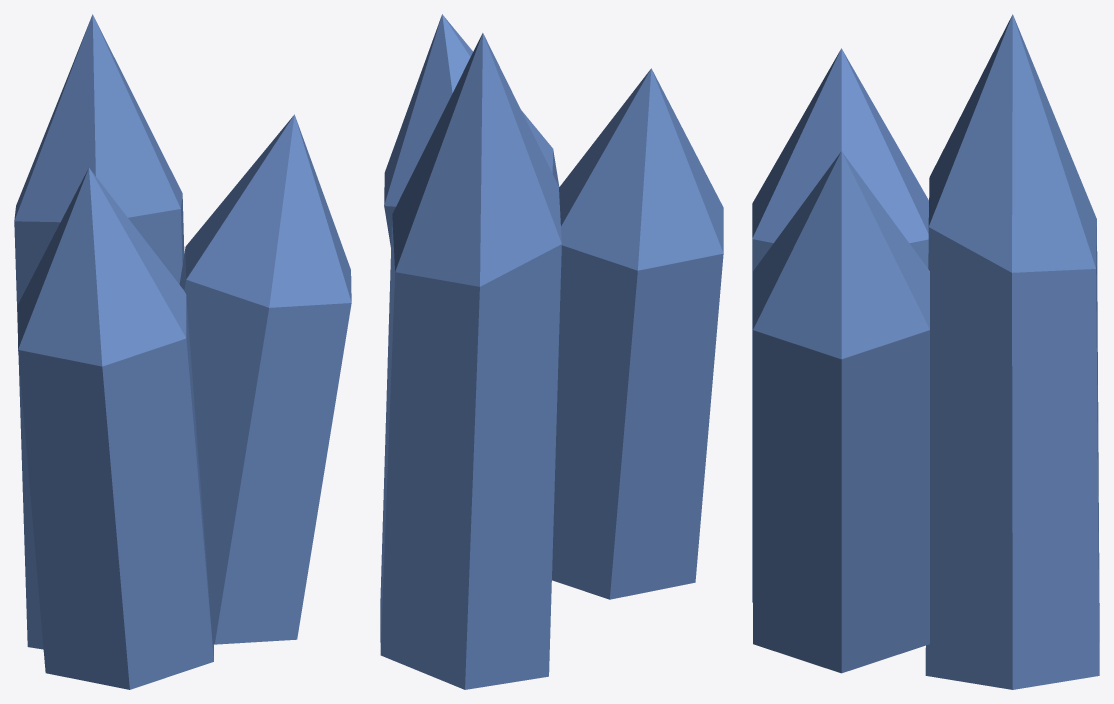
The model's file is Crystals31.FBX.
3 views of the same model, side by side, from view 1: azimuth 30°, elevation 25°; view 2: azimuth 150°, elevation 25°; view 3: azimuth 270°, elevation 25° (orthographic). The views are drawn at different scales.
Visible parts, largest first — view 1: out31; view 2: out31; view 3: out31.
Boxes of the visible parts, bbox=[...] form: out31: bbox=[14, 14, 351, 689]; out31: bbox=[380, 14, 723, 689]; out31: bbox=[752, 14, 1099, 689].
Bounding box in the file's own units: 68.72 × 122 × 58.72.
